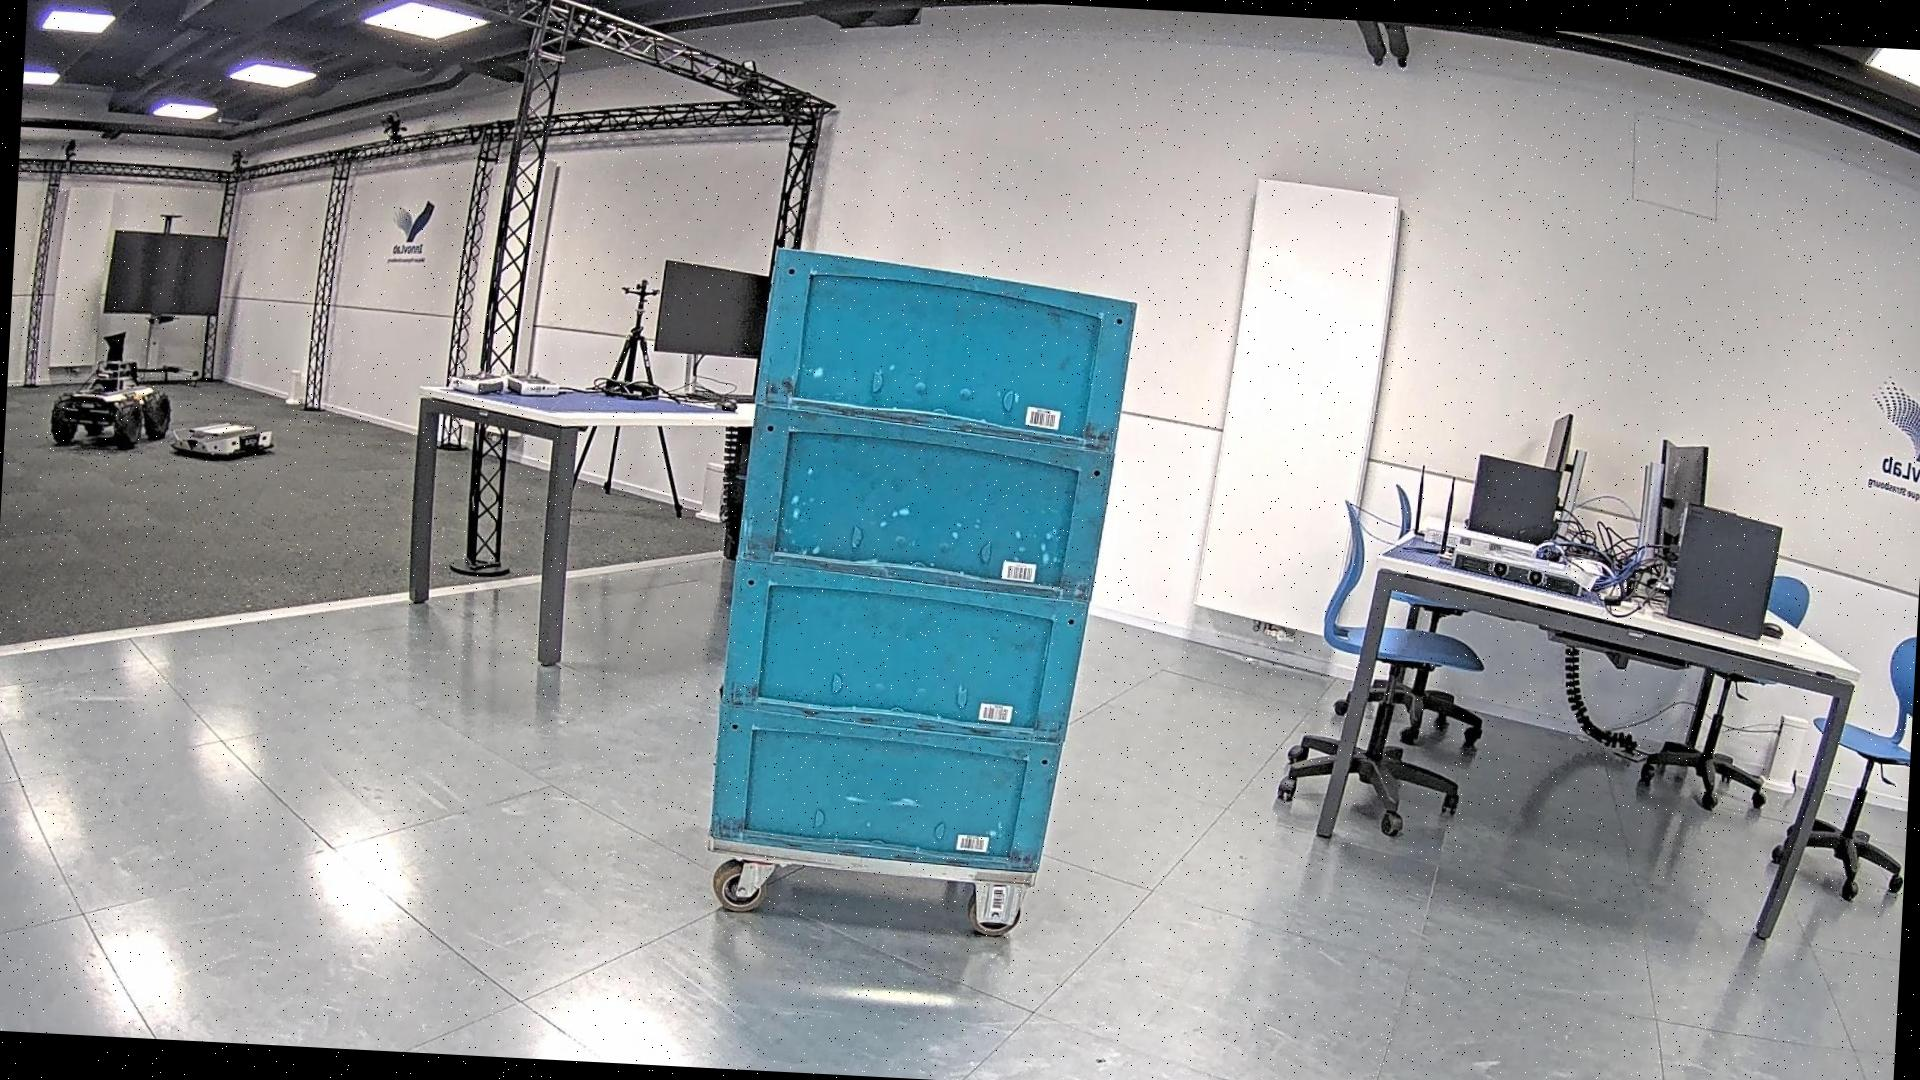BoxB4: (700, 237, 1149, 884)
